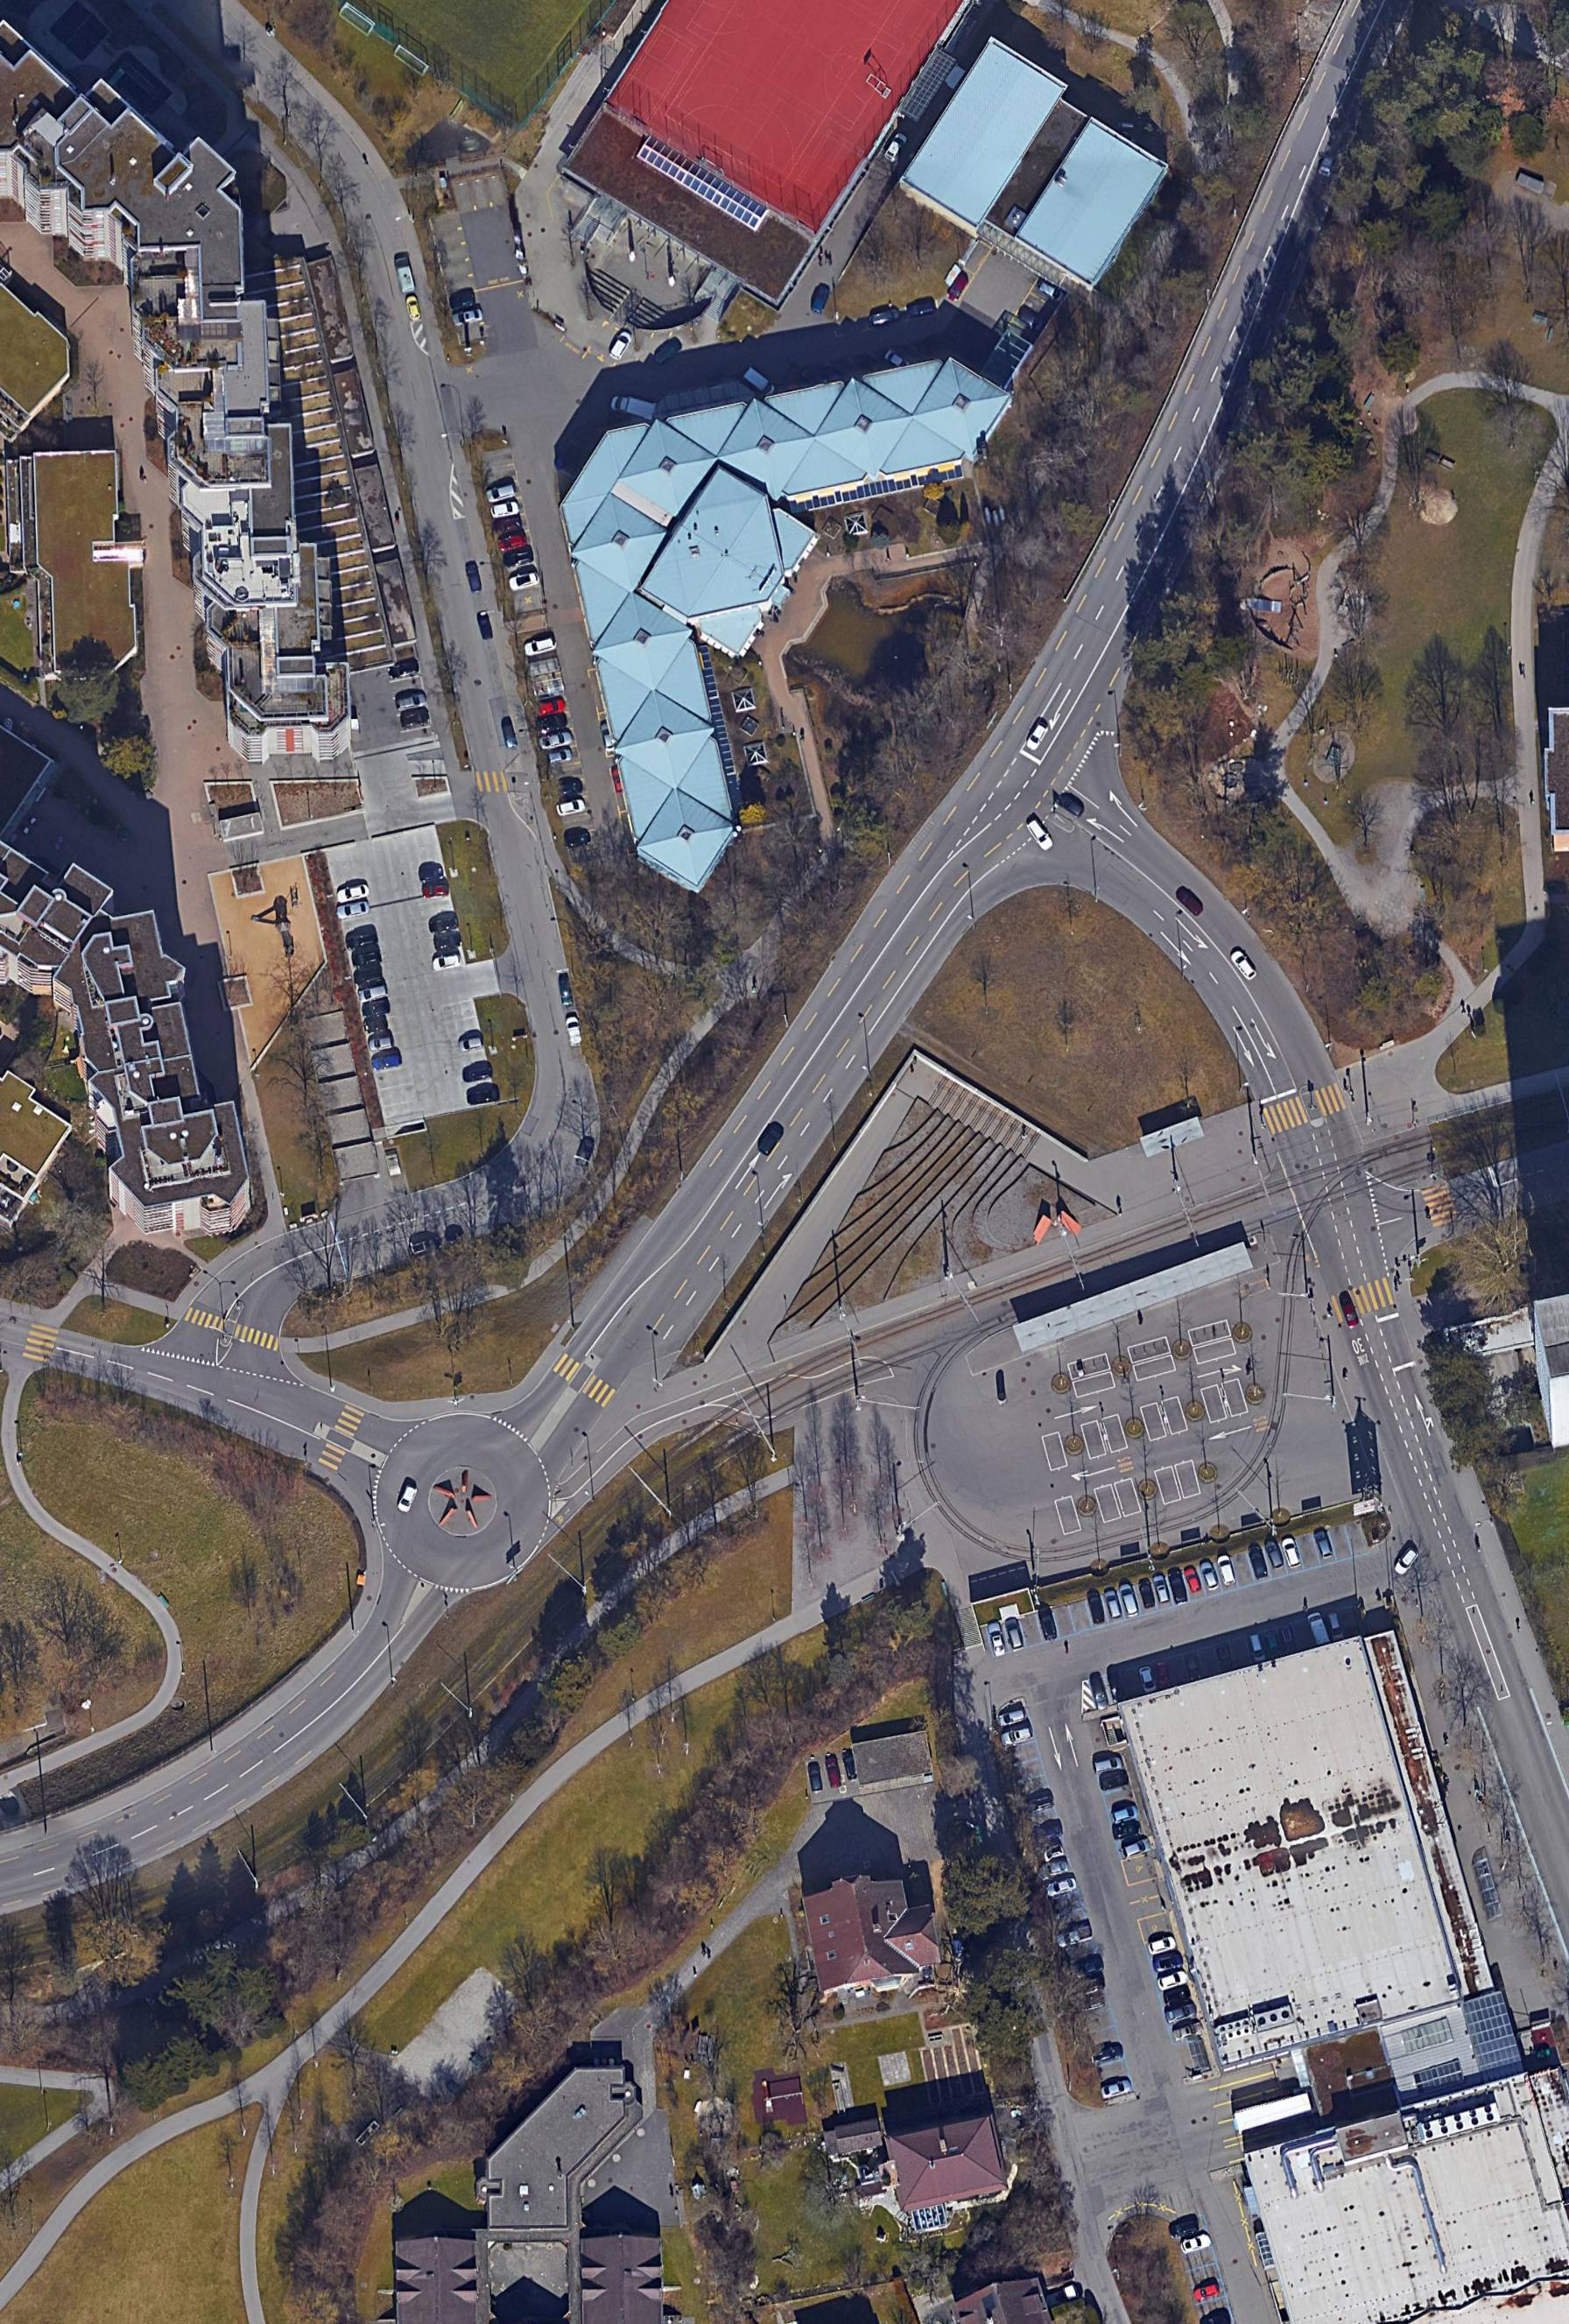basketball court: (686, 1, 905, 131)
large vehicle: (610, 392, 658, 420), (741, 365, 779, 399), (1306, 1612, 1331, 1645), (394, 257, 416, 292), (565, 1015, 585, 1047)
roundabout: (368, 1405, 557, 1594)
ship: (1055, 1925, 1094, 1951)
small vehicle: (1026, 816, 1057, 854), (1228, 947, 1259, 982), (882, 130, 912, 164), (1017, 302, 1049, 334), (1175, 885, 1207, 917), (758, 1122, 785, 1158), (985, 1622, 1010, 1659), (334, 882, 371, 906), (1392, 1545, 1421, 1576), (1037, 1607, 1060, 1644), (460, 1059, 495, 1084), (999, 1724, 1035, 1749), (1214, 1553, 1238, 1588), (1003, 1616, 1027, 1652), (1279, 1536, 1304, 1571), (1118, 1581, 1141, 1619), (1024, 722, 1051, 753), (1044, 1876, 1080, 1899), (1119, 1836, 1152, 1862), (1248, 1545, 1270, 1581), (395, 1482, 419, 1517), (1179, 2232, 1213, 2257), (503, 545, 537, 569), (946, 273, 973, 304), (466, 1083, 501, 1107), (1168, 1568, 1190, 1606), (609, 329, 634, 362), (1164, 2003, 1200, 2025), (359, 996, 392, 1020), (1058, 791, 1087, 819), (1155, 1969, 1189, 1993), (1153, 1951, 1186, 1975), (399, 706, 432, 730), (537, 730, 573, 752), (523, 636, 559, 658), (809, 285, 834, 315), (1074, 1991, 1108, 2014), (507, 571, 541, 594), (386, 659, 421, 681), (1313, 1528, 1336, 1561), (1100, 2079, 1133, 2102), (1038, 279, 1067, 305), (335, 900, 371, 921), (408, 1235, 442, 1257), (1171, 2020, 1205, 2042), (1324, 1610, 1347, 1643), (1089, 1678, 1111, 1711), (430, 952, 463, 974), (1072, 1957, 1105, 1979), (1074, 1975, 1108, 1997), (1087, 1590, 1107, 1626), (1214, 1643, 1237, 1674), (1199, 1560, 1221, 1592), (868, 307, 902, 328), (1037, 1859, 1071, 1880), (554, 777, 586, 799), (1107, 1672, 1129, 1704), (484, 483, 517, 505), (1162, 1983, 1192, 2007), (1098, 1771, 1131, 1792), (555, 797, 588, 818), (1167, 2219, 1200, 2240), (1246, 1632, 1268, 1664), (653, 341, 680, 366), (451, 306, 485, 327), (534, 714, 568, 734), (1024, 1792, 1056, 1813), (1263, 1539, 1284, 1571), (1032, 1823, 1065, 1844), (432, 932, 464, 953), (1092, 2044, 1124, 2065), (345, 933, 380, 952), (1340, 1299, 1362, 1330), (1103, 1588, 1124, 1620), (1151, 1573, 1172, 1604), (1137, 1663, 1158, 1694), (1278, 1623, 1299, 1655), (1111, 1820, 1143, 1841), (575, 1137, 596, 1168), (1183, 1566, 1206, 1595), (464, 560, 483, 594), (1148, 1935, 1178, 1957), (1154, 1659, 1174, 1691), (404, 292, 424, 323), (370, 1053, 402, 1073), (489, 501, 521, 521), (997, 1708, 1027, 1729), (563, 829, 593, 850), (1137, 1578, 1157, 1609), (496, 533, 527, 553), (824, 1757, 843, 1788), (396, 692, 427, 711), (1094, 1755, 1123, 1775), (1111, 1804, 1141, 1824), (494, 517, 524, 537), (1264, 1630, 1284, 1660), (1184, 1652, 1203, 1683), (842, 1749, 860, 1782), (477, 609, 496, 641), (906, 301, 936, 320), (537, 698, 566, 717), (350, 952, 382, 969), (419, 866, 447, 886), (1318, 151, 1338, 179), (421, 882, 450, 900), (1192, 2284, 1219, 2303), (358, 984, 388, 1002), (429, 917, 459, 934), (502, 722, 520, 750), (449, 292, 475, 312), (457, 1036, 483, 1054), (808, 1763, 825, 1792), (559, 976, 574, 1006), (362, 1017, 389, 1034), (367, 1036, 394, 1052), (548, 748, 573, 764)
